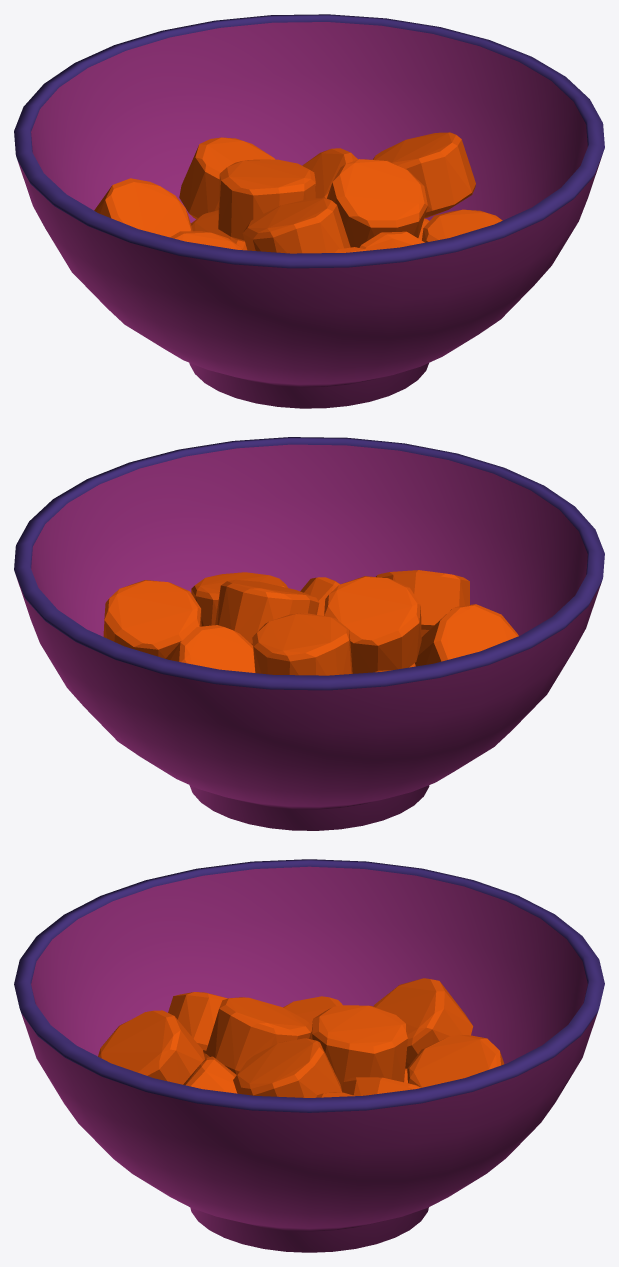
File: bamihap_uncooked_model.fbx
The picture shows the model from 3 angles, top to bottom: view 1: azimuth 30°, elevation 25°; view 2: azimuth 150°, elevation 25°; view 3: azimuth 270°, elevation 25°; orthographic projection.
Visible parts, largest first — view 1: Mixing_Bowl_UBamihap, Uncooked_Bitterbal; view 2: Mixing_Bowl_UBamihap, Uncooked_Bitterbal; view 3: Mixing_Bowl_UBamihap, Uncooked_Bitterbal.
Part boxes in pixels (x1,y1,x2,y2): Mixing_Bowl_UBamihap: (14, 14, 604, 408); Uncooked_Bitterbal: (94, 132, 502, 253); Mixing_Bowl_UBamihap: (14, 437, 604, 830); Uncooked_Bitterbal: (103, 570, 518, 675); Mixing_Bowl_UBamihap: (14, 859, 604, 1252); Uncooked_Bitterbal: (98, 978, 504, 1097).
Size of the model in its own units: 48.76 by 48.76 by 20.8.
